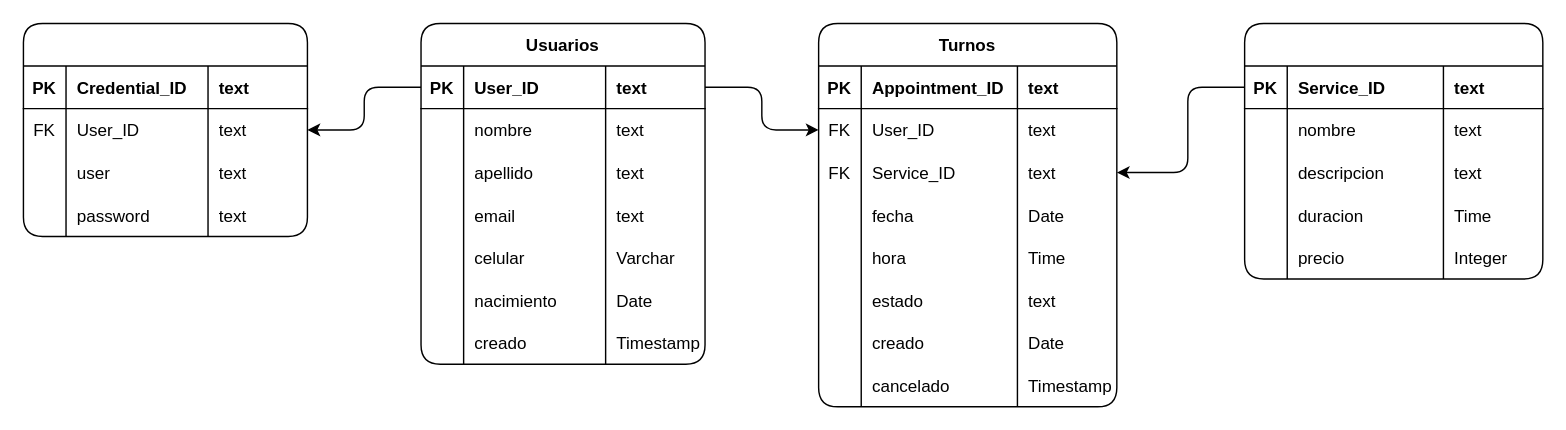
Image size: 1566x430. Some labels were removed from this diagram. Each missing label, with the box of its shape:
Credenciales: (22, 22, 307, 236)
Servicios: (1243, 22, 1543, 279)
